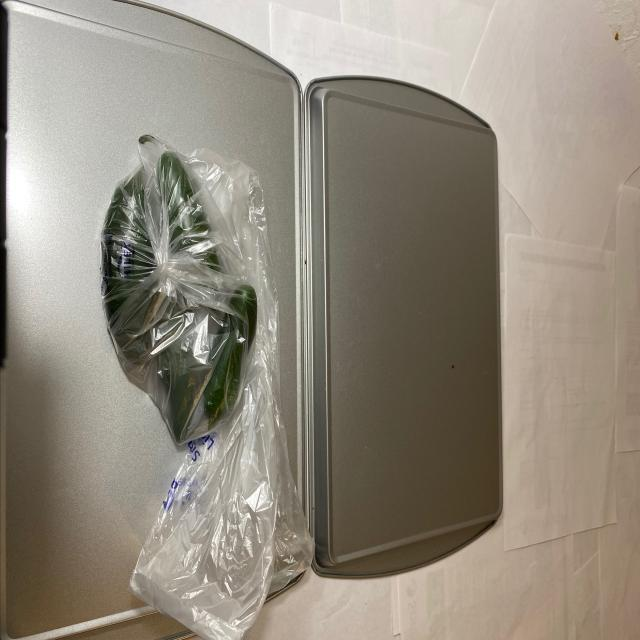chilli: (106, 123, 265, 460)
